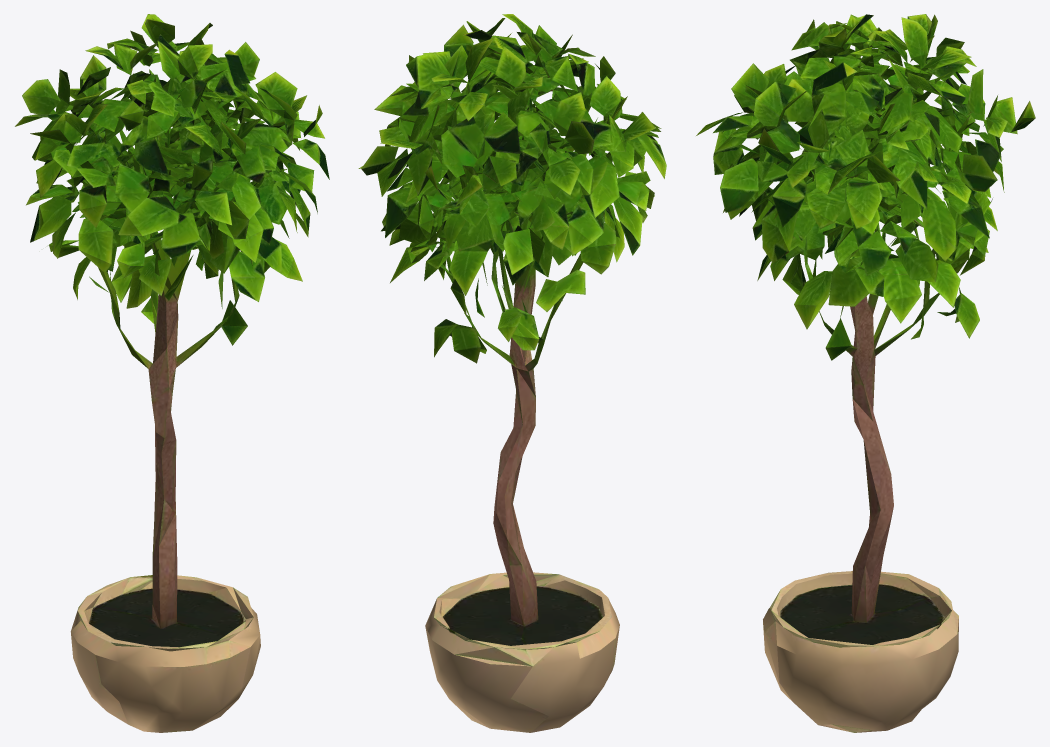
The model's file is plant_ficus.glb.
3 views of the same model, side by side, from view 1: azimuth 30°, elevation 25°; view 2: azimuth 150°, elevation 25°; view 3: azimuth 270°, elevation 25° (orthographic). The views are drawn at different scales.
Size of the model in its own units: 0.7834 by 1.9 by 0.8429.
Materials: 1 (1 with a texture image).
